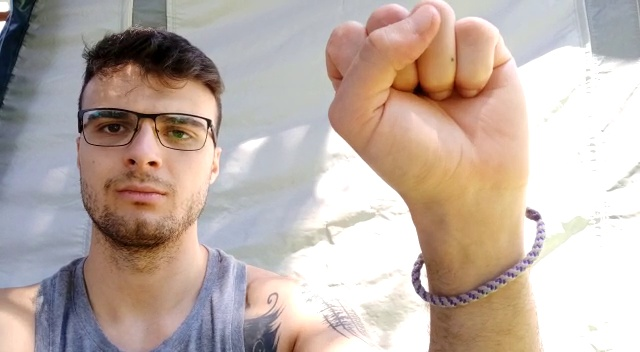Fist: (325, 1, 533, 206)
